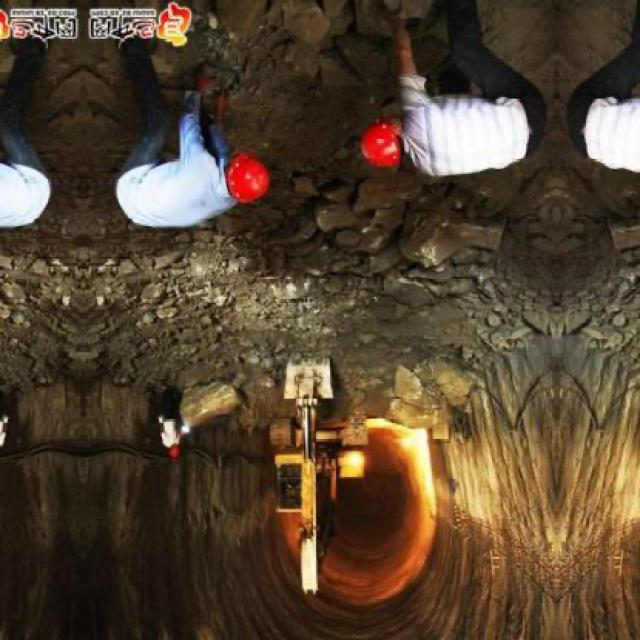con casco: (326, 86, 444, 215), (207, 149, 289, 230)
